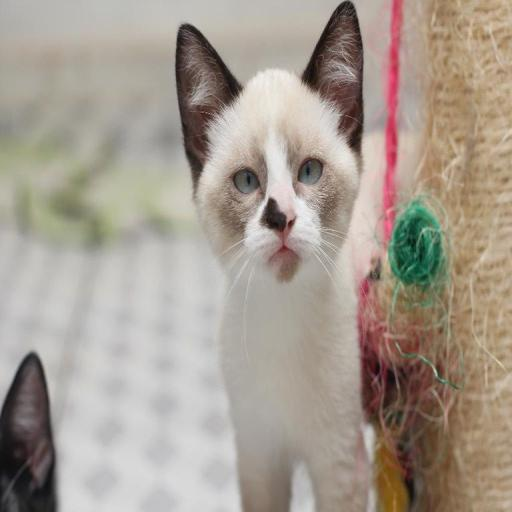cat: (174, 0, 378, 512), (0, 350, 58, 512)
